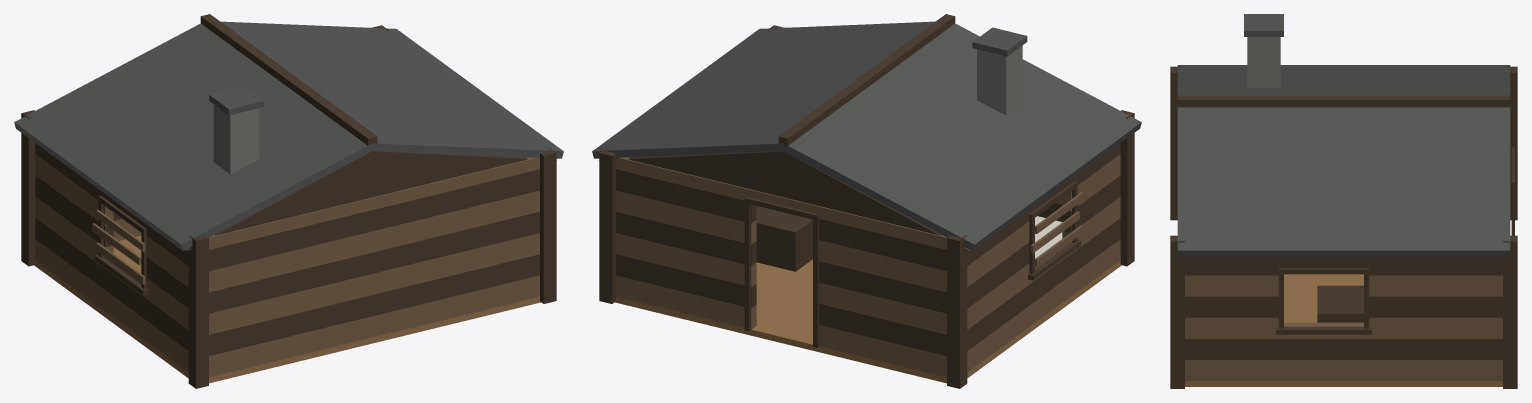
The model's file is cabin.glb.
3 renders of one model, left to right at view 1: azimuth 30°, elevation 25°; view 2: azimuth 150°, elevation 25°; view 3: azimuth 270°, elevation 25°, orthographic.
Parts seen in each view (by area): view 1: cabin; view 2: cabin; view 3: cabin.
Boxes of the visible parts, bbox=[...] form: cabin: bbox=[14, 14, 563, 388]; cabin: bbox=[592, 14, 1141, 388]; cabin: bbox=[1170, 14, 1517, 388].
Size of what is drawn, in the model's own units: 6.6 by 3.9 by 5.22.
1 material, 1 textured.
